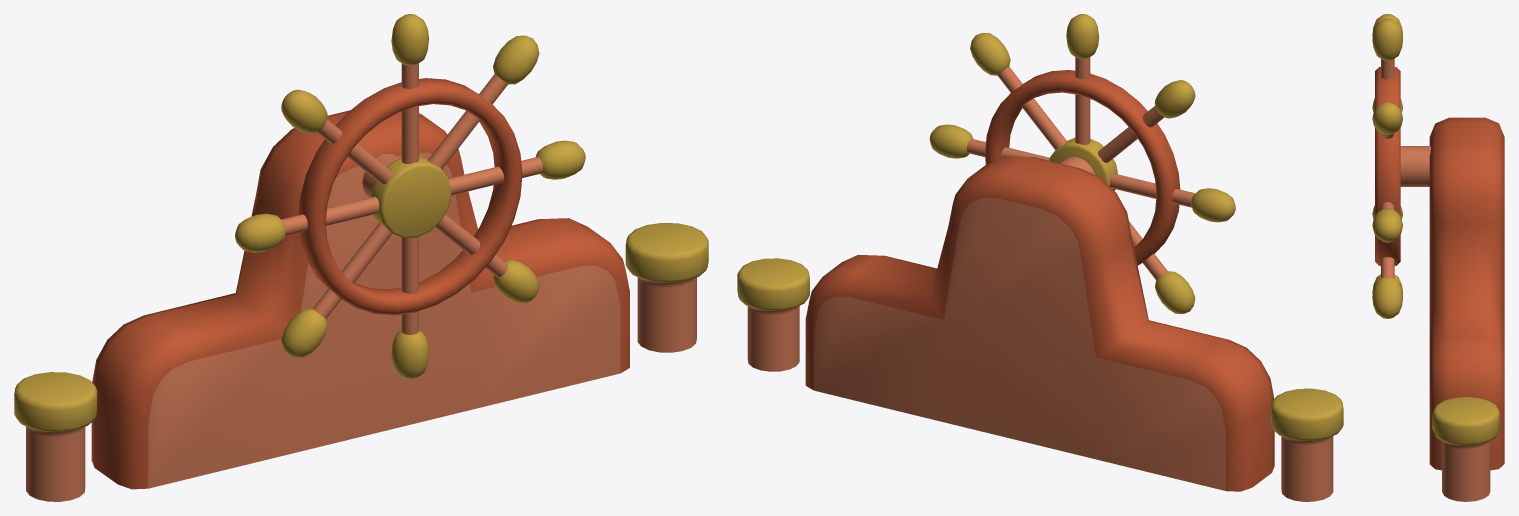
Rendered from Ship_Wheel_01a.fbx.
3 renders of one model, left to right at view 1: azimuth 30°, elevation 25°; view 2: azimuth 150°, elevation 25°; view 3: azimuth 270°, elevation 25°, orthographic. The views are drawn at different scales.
Visible parts, largest first — view 1: Ship_Wheel_01a; view 2: Ship_Wheel_01a; view 3: Ship_Wheel_01a.
Part boxes in pixels (box(x1,y1,x2,y2)): Ship_Wheel_01a: box(14, 14, 708, 501); Ship_Wheel_01a: box(737, 14, 1343, 501); Ship_Wheel_01a: box(1372, 14, 1504, 501).
Bounding box in the file's own units: 285 × 173 × 59.16.
